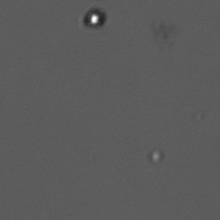Living Cell: (80, 6, 109, 30)
